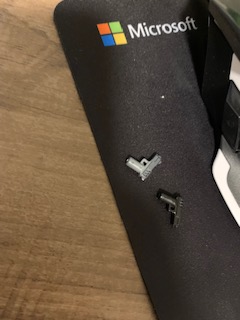pistol: (124, 151, 164, 182), (158, 190, 184, 230)
